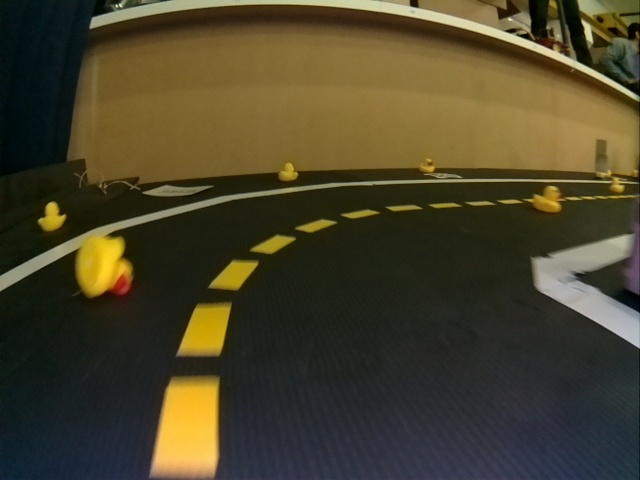Duckie: (76, 236, 133, 299), (38, 201, 66, 230), (533, 185, 562, 212), (278, 163, 298, 181), (610, 180, 625, 193), (421, 161, 434, 171)
QR code: (428, 171, 463, 181)
